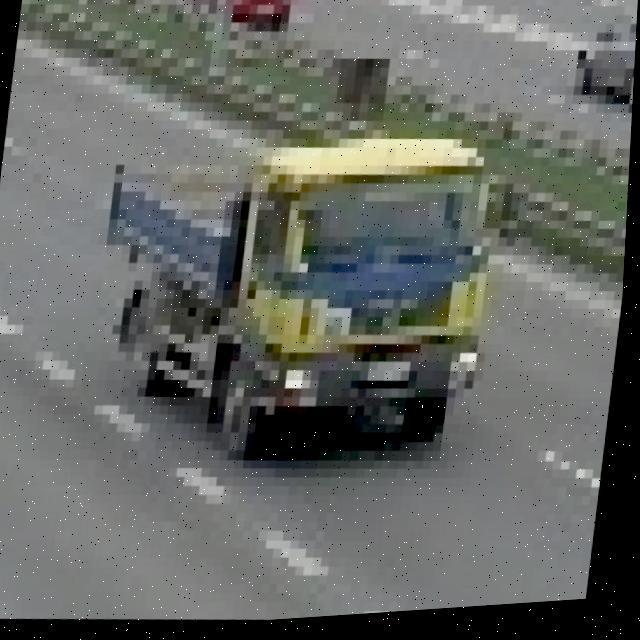truck: (92, 91, 541, 480)
